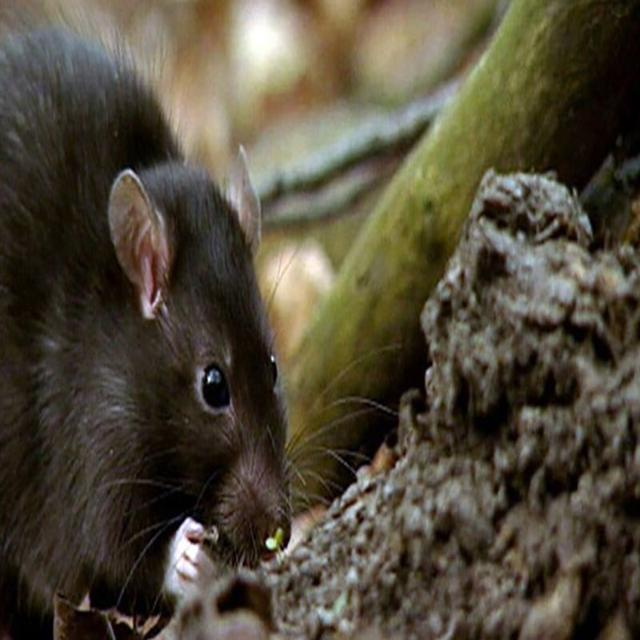rat: (0, 15, 299, 623)
